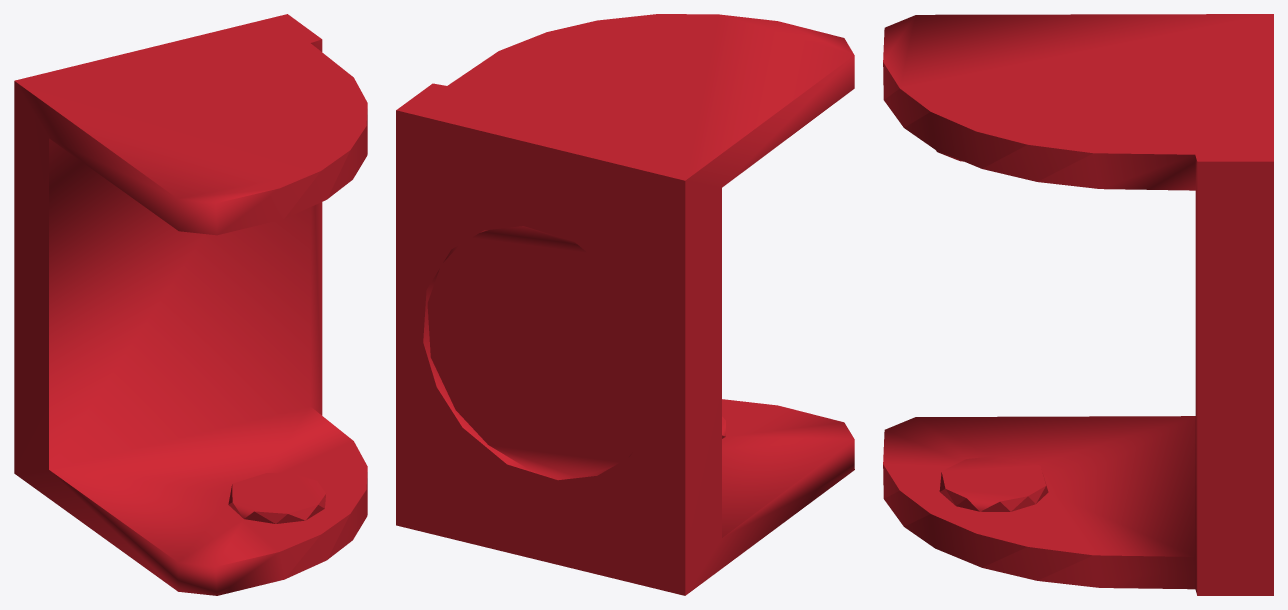
File: 1_finger.obj
The picture shows the model from 3 angles, left to right: view 1: azimuth 30°, elevation 25°; view 2: azimuth 150°, elevation 25°; view 3: azimuth 270°, elevation 25°; orthographic projection. The views are drawn at different scales.
Parts seen in each view (by area): view 1: 1_0finger; view 2: 1_0finger; view 3: 1_0finger.
Part boxes in pixels (x1,y1,x2,y2): 1_0finger: (14,14,367,595); 1_0finger: (396,14,854,595); 1_0finger: (883,14,1273,595).
Size of the model in its own units: 0.0196 by 0.0269 by 0.0219.
